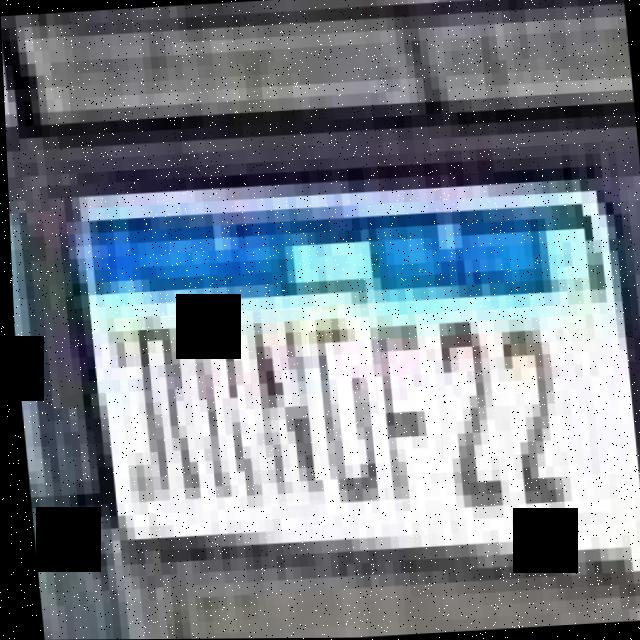0: (304, 308, 383, 516)
F: (368, 314, 443, 504)
N: (241, 310, 317, 504)
R: (182, 315, 256, 501), (130, 317, 197, 500)
